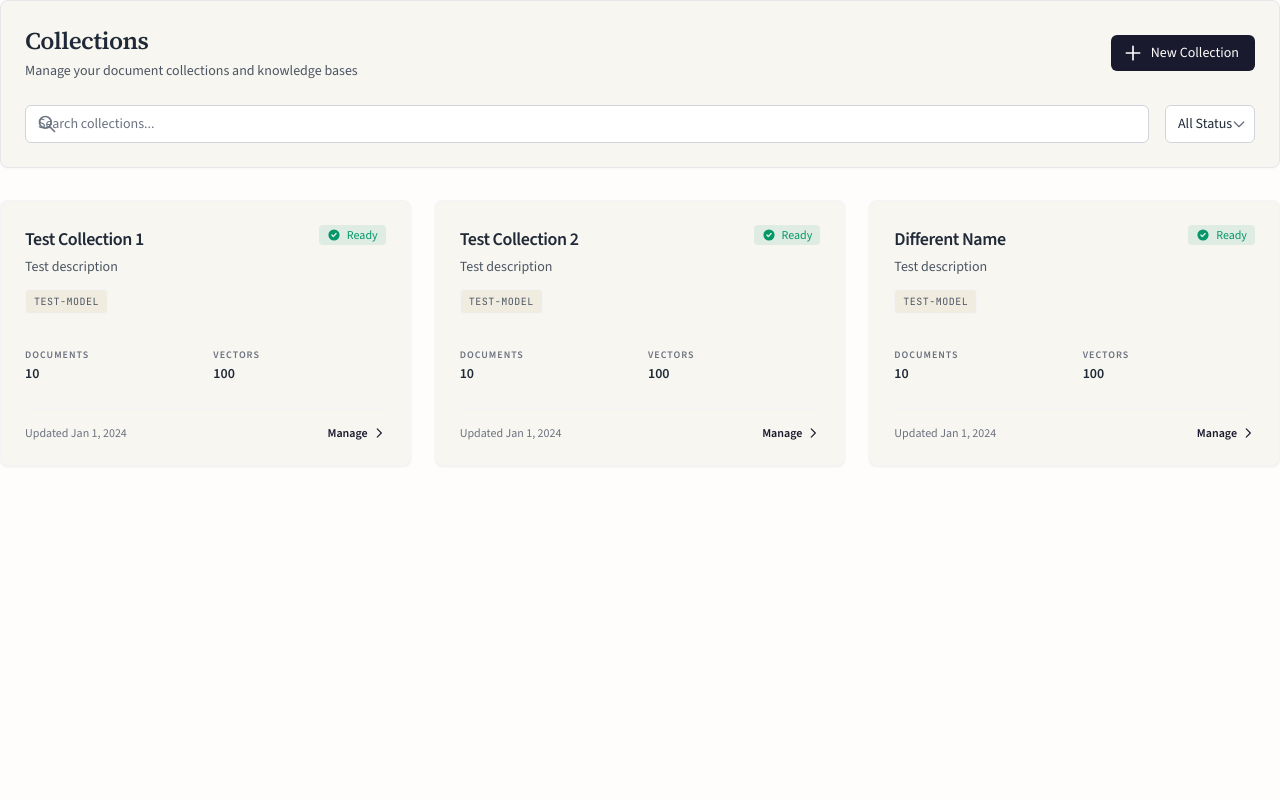
Test: CollectionsDashboard › Search Functionality › should show results count when searching
Type "Test Collection" into the field with placeholder "Search collections..." at x=587, y=124, box [25, 105, 1149, 143]
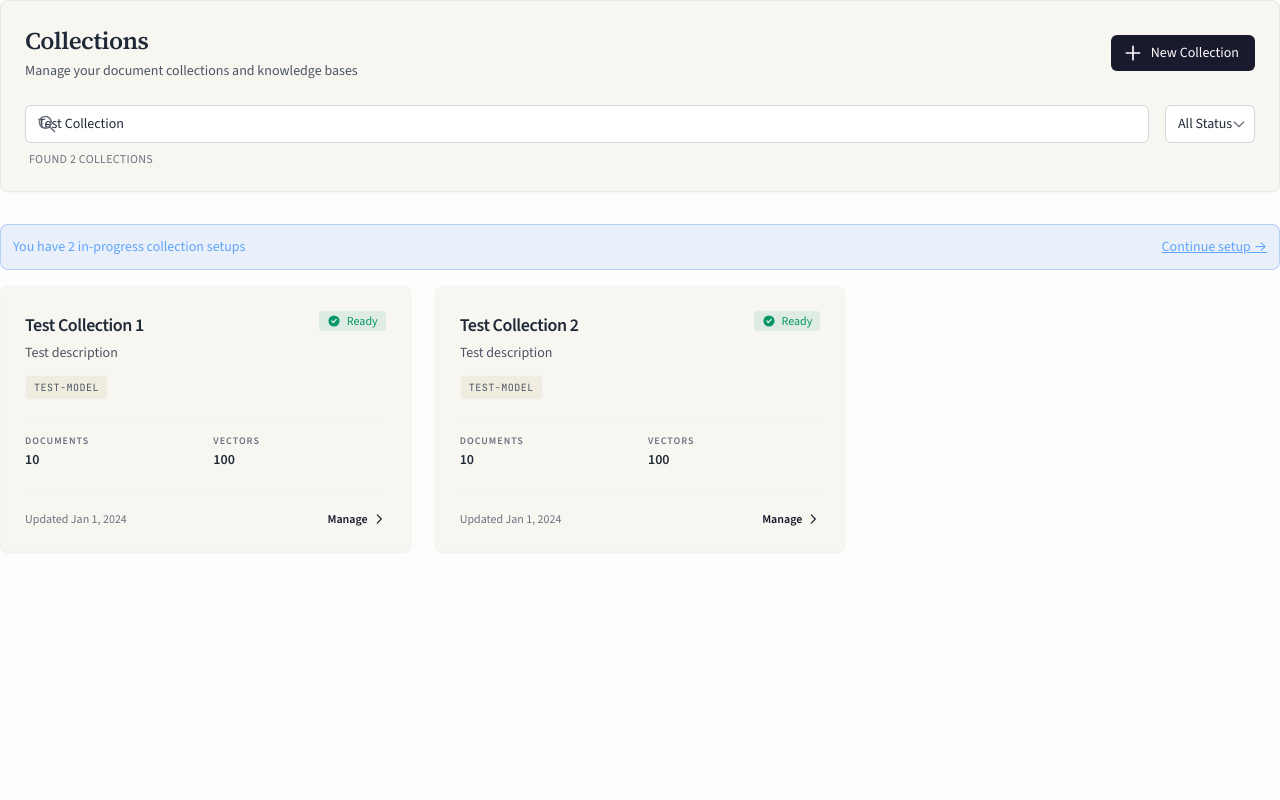
Check: the text "Found 2 collections" is shown, box [29, 151, 153, 167]
